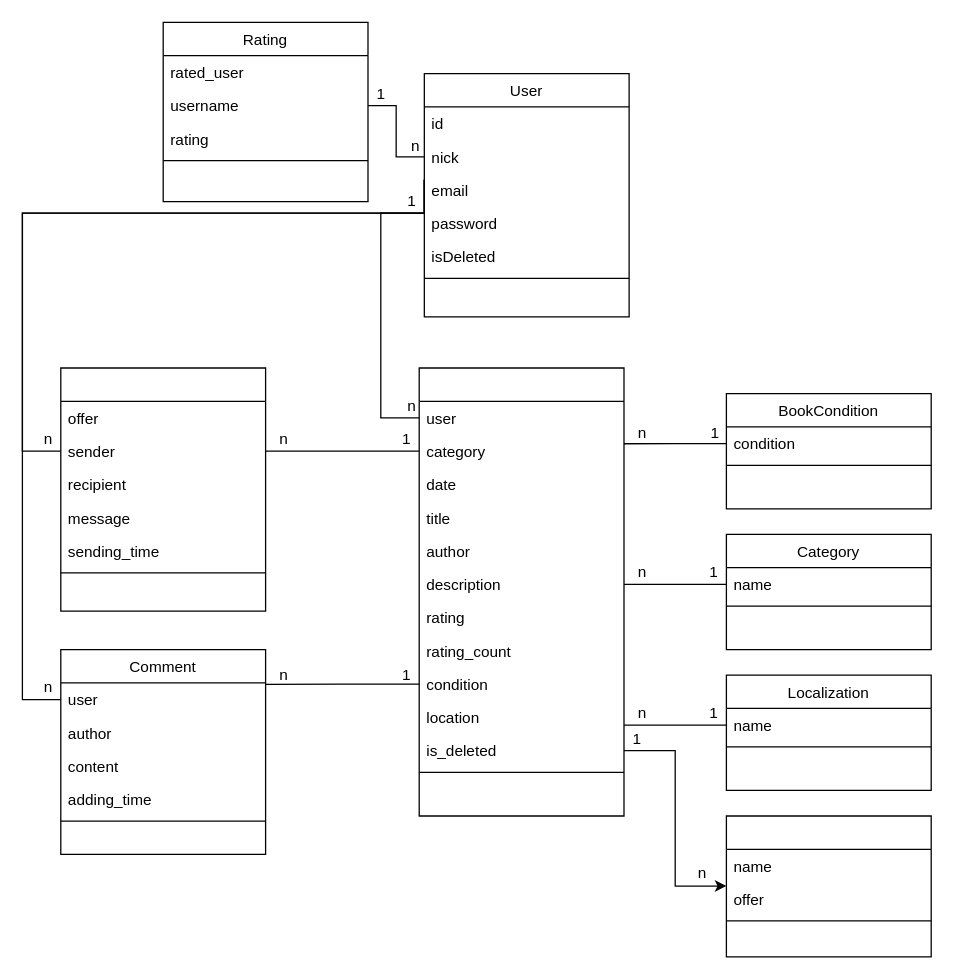
This 954x979 diagram has some shape labels left out. Here are the shapes that lost their labels. From the top down, the box of each, then its label:
(60, 367, 266, 611): Messages
(418, 367, 624, 816): Offers
(725, 815, 931, 957): Url
